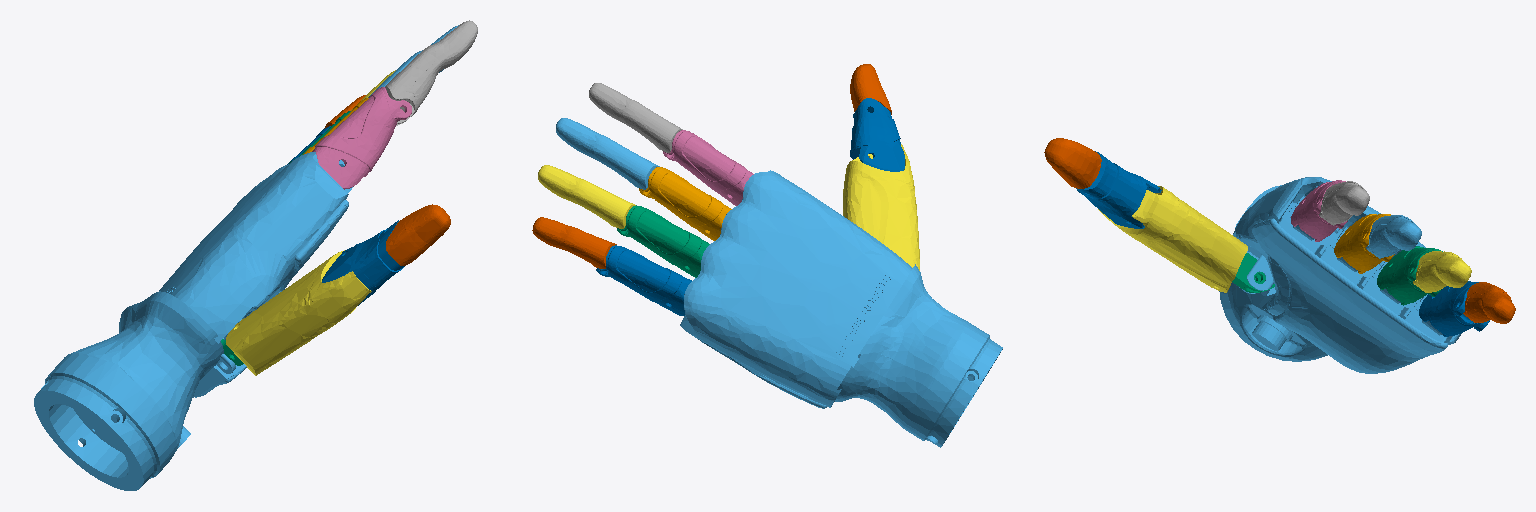
The robot description file, URDF, robot "inspire_hand_left":
<robot name="inspire_hand_left">
  
  <link name="base" />
  <joint name="base_joint" type="fixed">
    <parent link="base" />
    <child link="hand_base_link" />
    <origin xyz="-0.013 -0.001 -0.019" rpy="-0.68159 -0.71159 2.31841" />
    
    
  </joint>
  <link name="hand_base_link">
    <parent link="base" />
    <inertial>
      <origin xyz="-0.0025264 -0.066047 -0.0019598" rpy="0 0 0" />
      <mass value="0.14143" />
      <inertia ixx="0.00012281" ixy="2.1711E-06" ixz="1.7709E-06" iyy="8.3832E-05" iyz="-1.6551E-06" izz="7.6663E-05" />
    </inertial>
    <visual>
      <origin xyz="0 0 0" rpy="0 0 0" />
      <geometry>
        <mesh filename="meshes/visual/left_base_link.obj" />
      </geometry>
    </visual>
    <collision>
      <origin xyz="0 -0.0136 0" rpy="1.57079 0 0" />
      <geometry>
        <cylinder length="0.0278" radius="0.028" />
      </geometry>
    </collision>
    <collision>
      <origin xyz="-0.0032 -0.038 0" rpy="0 0 0" />
      <geometry>
        <box size="0.0391 0.0202 0.0574" />
      </geometry>
    </collision>
    <collision>
      <origin xyz="-0.0032 -0.0682 0" rpy="0 0 0" />
      <geometry>
        <box size="0.0391 0.04 0.0814" />
      </geometry>
    </collision>
    <collision>
      <origin xyz="0 -0.1081 0" rpy="0 0 0" />
      <geometry>
        <box size="0.0322 0.04 0.0814" />
      </geometry>
    </collision>
    <collision>
      <origin xyz="-0.0016 -0.1340 -0.0309" rpy="0 0 0" />
      <geometry>
        <box size="0.0125 0.0111 0.0089" />
      </geometry>
    </collision>
    <collision>
      <origin xyz="-0.0016 -0.1340 -0.0118" rpy="0 0 0" />
      <geometry>
        <box size="0.0125 0.0111 0.0089" />
      </geometry>
    </collision>
    <collision>
      <origin xyz="-0.0016 -0.1340 0.0070" rpy="0 0 0" />
      <geometry>
        <box size="0.0125 0.0111 0.0089" />
      </geometry>
    </collision>
    <collision>
      <origin xyz="-0.0016 -0.1340 0.0262" rpy="0 0 0" />
      <geometry>
        <box size="0.0125 0.0111 0.0089" />
      </geometry>
    </collision>
  </link>
  <link name="thumb_proximal_base">
    <inertial>
      <origin xyz="0.0048817 0.0009382 -0.00722" rpy="0 0 0" />
      <mass value="0.0018869" />
      <inertia ixx="5.816E-08" ixy="-1.4539E-08" ixz="-4.491E-09" iyy="7.9161E-08" iyz="-1.8727E-09" izz="6.7433E-08" />
    </inertial>
    <visual>
      <origin xyz="0 0 0" rpy="0 0 0" />
      <geometry>
        <mesh filename="meshes/visual/left_thumb_proximal_base.obj" />
      </geometry>
    </visual>
    <collision>
      <origin xyz="0 0 0" rpy="0 0 0" />
      <geometry>
        <mesh filename="meshes/collision/left_thumb_proximal_base.obj" />
      </geometry>
    </collision>
  </link>
  <joint name="thumb_proximal_yaw_joint" type="revolute">
    <origin xyz="-0.01696 -0.0691 0.02045" rpy="1.5708 -1.5708 0" />
    <parent link="hand_base_link" />
    <child link="thumb_proximal_base" />
    <axis xyz="0 0 1" />
    <limit lower="0" upper="1.308" effort="1" velocity="0.5" />
  </joint>
  <link name="thumb_proximal">
    <inertial>
      <origin xyz="0.021932 -0.012785 -0.0080386" rpy="0 0 0" />
      <mass value="0.0066075" />
      <inertia ixx="1.5686E-06" ixy="7.8296E-07" ixz="8.9143E-10" iyy="1.7353E-06" iyz="1.0191E-09" izz="2.786E-06" />
    </inertial>
    <visual>
      <origin xyz="0 0 0" rpy="0 0 0" />
      <geometry>
        <mesh filename="meshes/visual/left_thumb_proximal.obj" />
      </geometry>
    </visual>
    <collision>
      <origin xyz="0 0 0" rpy="0 0 0" />
      <geometry>
        <mesh filename="meshes/collision/left_thumb_proximal.obj" />
      </geometry>
    </collision>
  </link>
  <joint name="thumb_proximal_pitch_joint" type="revolute">
    <origin xyz="0.0099867 0.0098242 -0.0089" rpy="-1.5708 0 0.16939" />
    <parent link="thumb_proximal_base" />
    <child link="thumb_proximal" />
    <axis xyz="0 0 -1" />
    <limit lower="0" upper="0.6" effort="1" velocity="0.5" />
  </joint>
  <link name="thumb_intermediate">
    <inertial>
      <origin xyz="0.0095544 0.0016282 -0.0071997" rpy="0 0 0" />
      <mass value="0.0037847" />
      <inertia ixx="3.6981E-07" ixy="9.8581E-08" ixz="-4.7469E-12" iyy="3.2394E-07" iyz="-1.0939E-12" izz="4.6531E-07" />
    </inertial>
    <visual>
      <origin xyz="0 0 0" rpy="0 0 0" />
      <geometry>
        <mesh filename="meshes/visual/left_thumb_intermediate.obj" />
      </geometry>
    </visual>
    <collision>
      <origin xyz="0 0 0" rpy="0 0 0" />
      <geometry>
        <mesh filename="meshes/collision/left_thumb_intermediate.obj" />
      </geometry>
    </collision>
  </link>
  <joint name="thumb_intermediate_joint" type="revolute">
    <origin xyz="0.04407 -0.034553 -0.0008" rpy="0 0 0" />
    <parent link="thumb_proximal" />
    <child link="thumb_intermediate" />
    <axis xyz="0 0 -1" />
    <limit lower="0" upper="0.8" effort="1" velocity="0.5" />
    <mimic joint="thumb_proximal_pitch_joint" multiplier="1.334" offset="0" />
  </joint>
  <link name="thumb_distal">
    <inertial>
      <origin xyz="0.0092888 -0.0049529 -0.0060033" rpy="0 0 0" />
      <mass value="0.0033441" />
      <inertia ixx="1.3632E-07" ixy="5.6788E-08" ixz="-9.2764E-11" iyy="1.4052E-07" iyz="1.2283E-10" izz="2.0026E-07" />
    </inertial>
    <visual>
      <origin xyz="0 0 0" rpy="0 0 0" />
      <geometry>
        <mesh filename="meshes/visual/left_thumb_distal.obj" />
      </geometry>
    </visual>
    <collision>
      <origin xyz="0 0 0" rpy="0 0 0" />
      <geometry>
        <mesh filename="meshes/collision/left_thumb_distal.obj" scale="1 1 1" />
      </geometry>
    </collision>
  </link>
  <joint name="thumb_distal_joint" type="revolute">
    <origin xyz="0.020248 -0.010156 -0.0012" rpy="0 0 0" />
    <parent link="thumb_intermediate" />
    <child link="thumb_distal" />
    <axis xyz="0 0 -1" />
    <limit lower="0" upper="0.4" effort="1" velocity="0.5" />
    <mimic joint="thumb_proximal_pitch_joint" multiplier="0.667" offset="0" />
  </joint>
  <link name="index_proximal">
    <inertial>
      <origin xyz="0.0012259 -0.011942 -0.0060001" rpy="0 0 0" />
      <mass value="0.0042403" />
      <inertia ixx="6.6232E-07" ixy="1.5775E-08" ixz="1.8515E-12" iyy="2.1146E-07" iyz="5.0828E-12" izz="6.9398E-07" />
    </inertial>
    <visual>
      <origin xyz="0 0 0" rpy="0 0 0" />
      <geometry>
        <mesh filename="meshes/visual/left_index_proximal.obj" />
      </geometry>
    </visual>
    <collision>
      <origin xyz="0 0 0" rpy="0 0 0" />
      <geometry>
        <mesh filename="meshes/collision/left_index_proximal.obj" />
      </geometry>
    </collision>
  </link>
  <joint name="index_proximal_joint" type="revolute">
    <origin xyz="0.00028533 -0.13653 0.032268" rpy="-0.034907 0 0" />
    <parent link="hand_base_link" />
    <child link="index_proximal" />
    <axis xyz="0 0 -1" />
    <limit lower="0" upper="1.47" effort="1" velocity="0.5" />
  </joint>
  <link name="index_intermediate">
    <inertial>
      <origin xyz="0.0019697 -0.019589 -0.005" rpy="0 0 0" />
      <mass value="0.0045683" />
      <inertia ixx="7.6111E-07" ixy="-8.7637E-08" ixz="-3.7751E-13" iyy="9.6076E-08" iyz="-9.9444E-13" izz="7.8179E-07" />
    </inertial>
    <visual>
      <origin xyz="0 0 0" rpy="0 0 0" />
      <geometry>
        <mesh filename="meshes/visual/left_index_intermediate.obj" />
      </geometry>
    </visual>
    <collision>
      <origin xyz="0 0 0" rpy="0 0 0" />
      <geometry>
        <mesh filename="meshes/collision/left_index_intermediate.obj" />
      </geometry>
    </collision>
  </link>
  <joint name="index_intermediate_joint" type="revolute">
    <origin xyz="-0.0026138 -0.032026 -0.001" rpy="0 0 0" />
    <parent link="index_proximal" />
    <child link="index_intermediate" />
    <axis xyz="0 0 -1" />
    <limit lower="-0.04545" upper="1.56" effort="1" velocity="0.5" />
    <mimic joint="index_proximal_joint" multiplier="1.06399" offset="-0.04545" />
  </joint>
  <link name="middle_proximal">
    <inertial>
      <origin xyz="0.001297 -0.011934 -0.0060001" rpy="0 0 0" />
      <mass value="0.0042403" />
      <inertia ixx="6.6211E-07" ixy="1.8461E-08" ixz="1.8002E-12" iyy="2.1167E-07" iyz="6.6808E-12" izz="6.9397E-07" />
    </inertial>
    <visual>
      <origin xyz="0 0 0" rpy="0 0 0" />
      <geometry>
        <mesh filename="meshes/visual/left_index_proximal.obj" />
      </geometry>
    </visual>
    <collision>
      <origin xyz="0 0 0" rpy="0 0 0" />
      <geometry>
        <mesh filename="meshes/collision/left_index_proximal.obj" />
      </geometry>
    </collision>
  </link>
  <joint name="middle_proximal_joint" type="revolute">
    <origin xyz="0.00028533 -0.1371 0.01295" rpy="0 0 0" />
    <parent link="hand_base_link" />
    <child link="middle_proximal" />
    <axis xyz="0 0 -1" />
    <limit lower="0" upper="1.47" effort="1" velocity="0.5" />
  </joint>
  <link name="middle_intermediate">
    <inertial>
      <origin xyz="0.001921 -0.020796 -0.005" rpy="0 0 0" />
      <mass value="0.0050396" />
      <inertia ixx="9.5822E-07" ixy="-1.1425E-07" ixz="-2.4791E-12" iyy="1.0646E-07" iyz="-5.9173E-12" izz="9.8384E-07" />
    </inertial>
    <visual>
      <origin xyz="0 0 0" rpy="0 0 0" />
      <geometry>
        <mesh filename="meshes/visual/left_middle_intermediate.obj" />
      </geometry>
    </visual>
    <collision>
      <origin xyz="0 0 0" rpy="0 0 0" />
      <geometry>
        <mesh filename="meshes/collision/left_middle_intermediate.obj" />
      </geometry>
    </collision>
  </link>
  <joint name="middle_intermediate_joint" type="revolute">
    <origin xyz="-0.0024229 -0.032041 -0.001" rpy="0 0 0" />
    <parent link="middle_proximal" />
    <child link="middle_intermediate" />
    <axis xyz="0 0 -1" />
    <limit lower="-0.04545" upper="1.56" effort="1" velocity="0.5" />
    <mimic joint="middle_proximal_joint" multiplier="1.06399" offset="-0.04545" />
  </joint>
  <link name="ring_proximal">
    <inertial>
      <origin xyz="0.001297 -0.011934 -0.0060002" rpy="0 0 0" />
      <mass value="0.0042403" />
      <inertia ixx="6.6211E-07" ixy="1.8461E-08" ixz="1.5793E-12" iyy="2.1167E-07" iyz="6.6868E-12" izz="6.9397E-07" />
    </inertial>
    <visual>
      <origin xyz="0 0 0" rpy="0 0 0" />
      <geometry>
        <mesh filename="meshes/visual/left_index_proximal.obj" />
      </geometry>
    </visual>
    <collision>
      <origin xyz="0 0 0" rpy="0 0 0" />
      <geometry>
        <mesh filename="meshes/collision/left_index_proximal.obj" />
      </geometry>
    </collision>
  </link>
  <joint name="ring_proximal_joint" type="revolute">
    <origin xyz="0.00028533 -0.13691 -0.0062872" rpy="0.05236 0 0" />
    <parent link="hand_base_link" />
    <child link="ring_proximal" />
    <axis xyz="0 0 -1" />
    <limit lower="0" upper="1.47" effort="1" velocity="0.5" />
  </joint>
  <link name="ring_intermediate">
    <inertial>
      <origin xyz="0.0021753 -0.019567 -0.005" rpy="0 0 0" />
      <mass value="0.0045683" />
      <inertia ixx="7.6286E-07" ixy="-8.0635E-08" ixz="-6.1562E-13" iyy="9.431E-08" iyz="-5.8619E-13" izz="7.8177E-07" />
    </inertial>
    <visual>
      <origin xyz="0 0 0" rpy="0 0 0" />
      <geometry>
        <mesh filename="meshes/visual/left_index_intermediate.obj" />
      </geometry>
    </visual>
    <collision>
      <origin xyz="0 0 0" rpy="0 0 0" />
      <geometry>
        <mesh filename="meshes/collision/left_index_intermediate.obj" />
      </geometry>
    </collision>
  </link>
  <joint name="ring_intermediate_joint" type="revolute">
    <origin xyz="-0.0024229 -0.032041 -0.001" rpy="0 0 0" />
    <parent link="ring_proximal" />
    <child link="ring_intermediate" />
    <axis xyz="0 0 -1" />
    <limit lower="-0.04545" upper="1.56" effort="1" velocity="0.5" />
    <mimic joint="ring_proximal_joint" multiplier="1.06399" offset="-0.04545" />
  </joint>
  <link name="pinky_proximal">
    <inertial>
      <origin xyz="0.001297 -0.011934 -0.0060001" rpy="0 0 0" />
      <mass value="0.0042403" />
      <inertia ixx="6.6211E-07" ixy="1.8461E-08" ixz="1.6907E-12" iyy="2.1167E-07" iyz="6.9334E-12" izz="6.9397E-07" />
    </inertial>
    <visual>
      <origin xyz="0 0 0" rpy="0 0 0" />
      <geometry>
        <mesh filename="meshes/visual/left_index_proximal.obj" />
      </geometry>
    </visual>
    <collision>
      <origin xyz="0 0 0" rpy="0 0 0" />
      <geometry>
        <mesh filename="meshes/collision/left_index_proximal.obj" />
      </geometry>
    </collision>
  </link>
  <joint name="pinky_proximal_joint" type="revolute">
    <origin xyz="0.00028533 -0.13571 -0.025488" rpy="0.10472 0 0" />
    <parent link="hand_base_link" />
    <child link="pinky_proximal" />
    <axis xyz="0 0 -1" />
    <limit lower="0" upper="1.47" effort="1" velocity="0.5" />
  </joint>
  <link name="pinky_intermediate">
    <inertial>
      <origin xyz="0.0024748 -0.016203 -0.0050031" rpy="0 0 0" />
      <mass value="0.0035996" />
      <inertia ixx="4.3913E-07" ixy="-4.1418E-08" ixz="3.7168E-11" iyy="7.0247E-08" iyz="-5.8613E-11" izz="4.4867E-07" />
    </inertial>
    <visual>
      <origin xyz="0 0 0" rpy="0 0 0" />
      <geometry>
        <mesh filename="meshes/visual/left_pinky_intermediate.obj" />
      </geometry>
    </visual>
    <collision>
      <origin xyz="0 0 0" rpy="0 0 0" />
      <geometry>
        <mesh filename="meshes/collision/left_pinky_intermediate.obj" />
      </geometry>
    </collision>
  </link>
  <joint name="pinky_intermediate_joint" type="revolute">
    <origin xyz="-0.0024229 -0.032041 -0.001" rpy="0 0 0" />
    <parent link="pinky_proximal" />
    <child link="pinky_intermediate" />
    <axis xyz="0 0 -1" />
    <limit lower="-0.04545" upper="1.56" effort="1" velocity="0.5" />
    <mimic joint="pinky_proximal_joint" multiplier="1.06399" offset="-0.04545" />
  </joint>

  <link name="thumb_tip" />
  <joint name="thumb_tip_joint" type="fixed">
    <origin xyz="0.0202 -0.0140 -0.006" rpy="0 0 0" />
    <parent link="thumb_distal" />
    <child link="thumb_tip" />
  </joint>
  <link name="index_tip" />
  <joint name="index_tip_joint" type="fixed">
    <origin xyz="-0.0008 -0.045 -0.005" rpy="0 0 0" />
    <parent link="index_intermediate" />
    <child link="index_tip" />
  </joint>
  <link name="middle_tip" />
  <joint name="middle_tip_joint" type="fixed">
    <origin xyz="-0.001 -0.048 -0.005" rpy="0 0 0" />
    <parent link="middle_intermediate" />
    <child link="middle_tip" />
  </joint>
  <link name="ring_tip" />
  <joint name="ring_tip_joint" type="fixed">
    <origin xyz="-0.0008 -0.045 -0.005" rpy="0 0 0" />
    <parent link="ring_intermediate" />
    <child link="ring_tip" />
  </joint>
  <link name="pinky_tip" />
  <joint name="pinky_tip_joint" type="fixed">
    <origin xyz="-0.0008 -0.037 -0.005" rpy="0 0 0" />
    <parent link="pinky_intermediate" />
    <child link="pinky_tip" />
  </joint>
</robot>

--- What the picture shows (computed from the rendered views, not written in the file) ---
Views: 3 orthographic renders of the robot side by side, from view 1: azimuth 30°, elevation 25°; view 2: azimuth 150°, elevation 25°; view 3: azimuth 270°, elevation 25°.
Robot: inspire_hand_left — 19 links, 18 joints (12 revolute, 6 fixed); root link base; default pose: all joints at 0.
Links seen in each view (by area): view 1: hand_base_link, thumb_proximal, index_proximal, index_intermediate, thumb_intermediate, thumb_distal; view 2: hand_base_link, thumb_proximal, pinky_proximal, ring_proximal, middle_proximal, index_proximal, thumb_intermediate, middle_intermediate, ring_intermediate, index_intermediate, pinky_intermediate, thumb_distal; view 3: hand_base_link, thumb_proximal, thumb_intermediate, pinky_proximal, thumb_distal, ring_proximal, ring_intermediate, middle_intermediate, pinky_intermediate, middle_proximal, index_intermediate, index_proximal (+1 smaller).
Link boxes in pixels (x1,y1,x2,y2): hand_base_link: [34, 152, 352, 490]; thumb_proximal: [226, 250, 371, 375]; index_proximal: [312, 87, 411, 189]; index_intermediate: [385, 20, 477, 125]; thumb_intermediate: [322, 220, 404, 305]; thumb_distal: [386, 204, 450, 265]; hand_base_link: [680, 170, 1002, 447]; thumb_proximal: [843, 144, 919, 270]; pinky_proximal: [596, 245, 691, 315]; ring_proximal: [617, 205, 709, 277]; middle_proximal: [639, 167, 731, 240]; index_proximal: [663, 130, 753, 205]; thumb_intermediate: [850, 98, 904, 171]; middle_intermediate: [556, 118, 659, 189]; ring_intermediate: [538, 165, 635, 228]; index_intermediate: [589, 83, 682, 152]; pinky_intermediate: [532, 217, 616, 268]; thumb_distal: [850, 64, 891, 114]; hand_base_link: [1219, 177, 1461, 373]; thumb_proximal: [1098, 186, 1247, 292]; thumb_intermediate: [1076, 151, 1161, 228]; pinky_proximal: [1419, 281, 1489, 336]; thumb_distal: [1044, 138, 1101, 188]; ring_proximal: [1377, 246, 1442, 305]; ring_intermediate: [1413, 251, 1471, 292]; middle_intermediate: [1366, 215, 1421, 258]; pinky_intermediate: [1463, 282, 1515, 323]; middle_proximal: [1334, 214, 1394, 273]; index_intermediate: [1319, 181, 1369, 225]; index_proximal: [1291, 180, 1347, 241].
Size in the robot's own frame: 0.1991 by 0.1667 by 0.1436 metres.
Meshes: 9 distinct files referenced, 13 mesh visuals loaded (9 OBJ).
